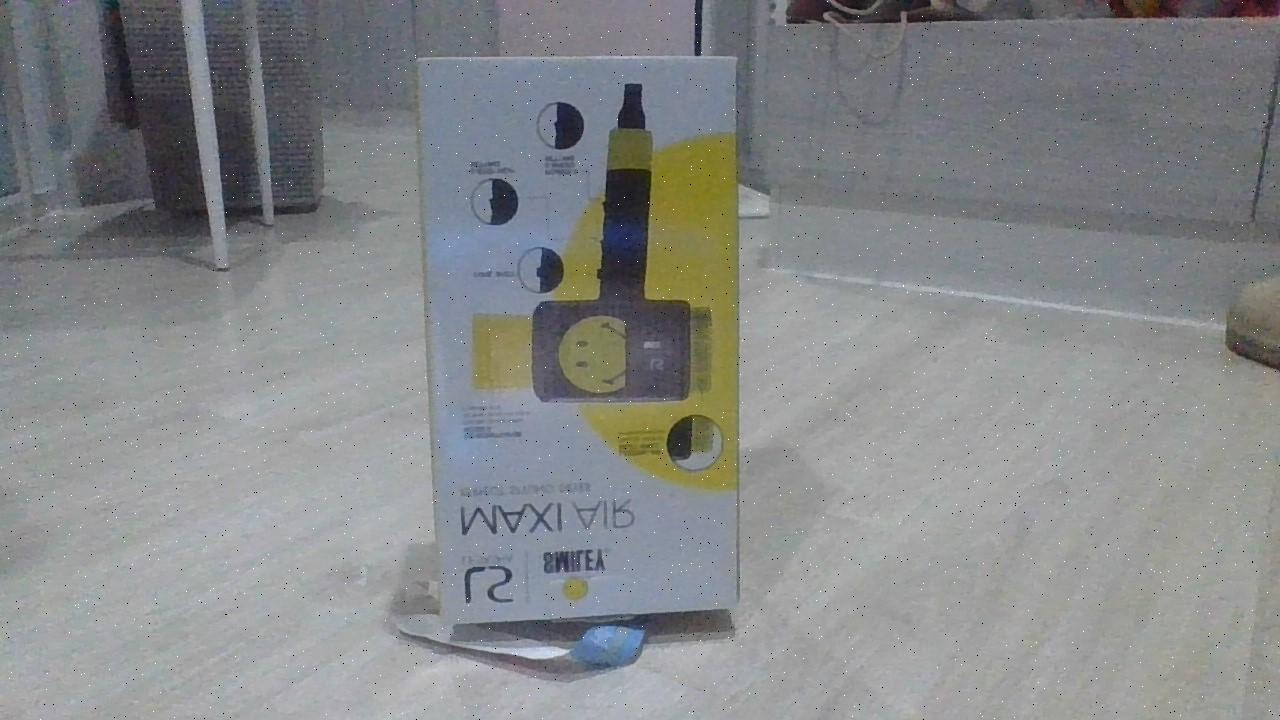IRON: (411, 50, 747, 637)
